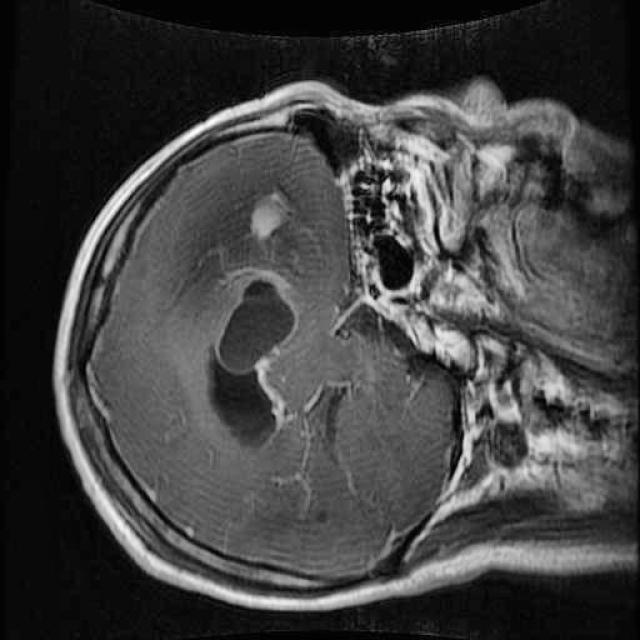Tumor: (230, 164, 306, 248)
